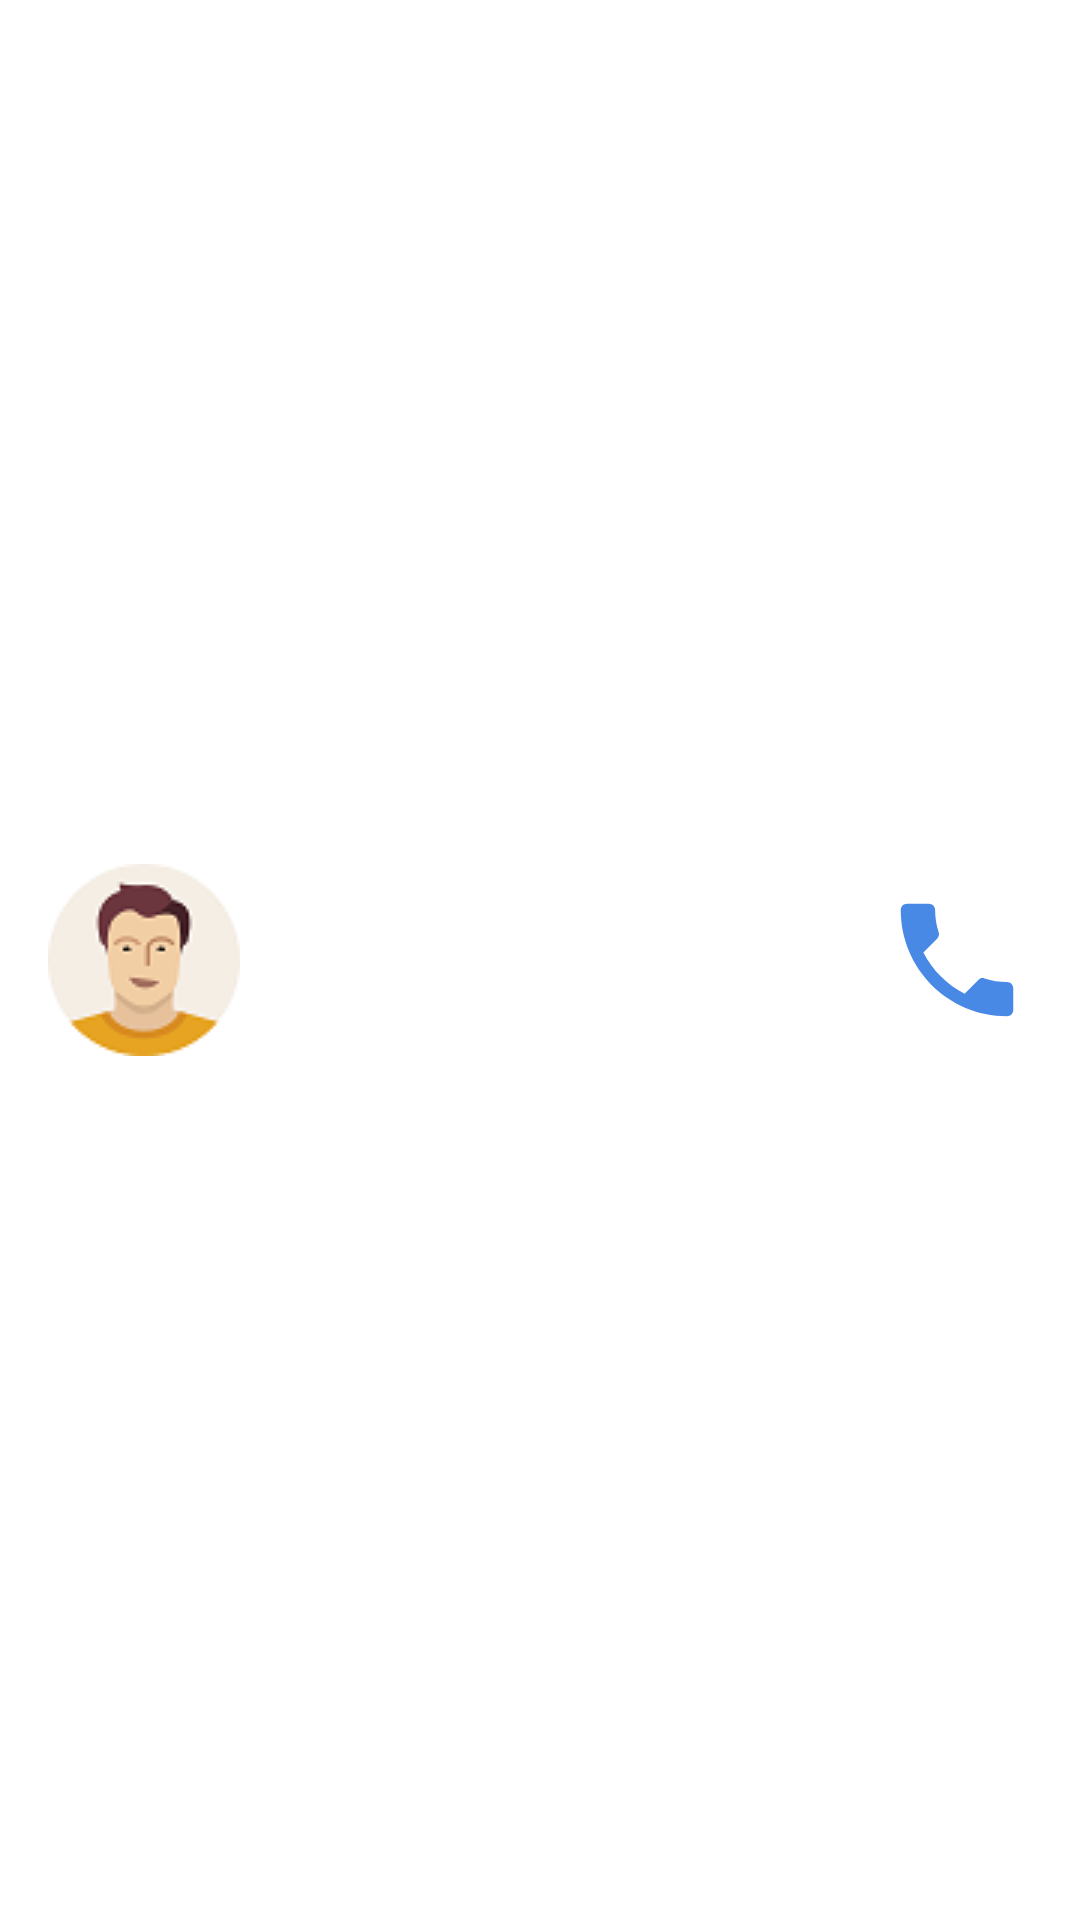

Screen size 1080px×1920px. Icon name, then its box in pixels as (x1, y1, x2, y2):
user profile: (48, 864, 240, 1056)
